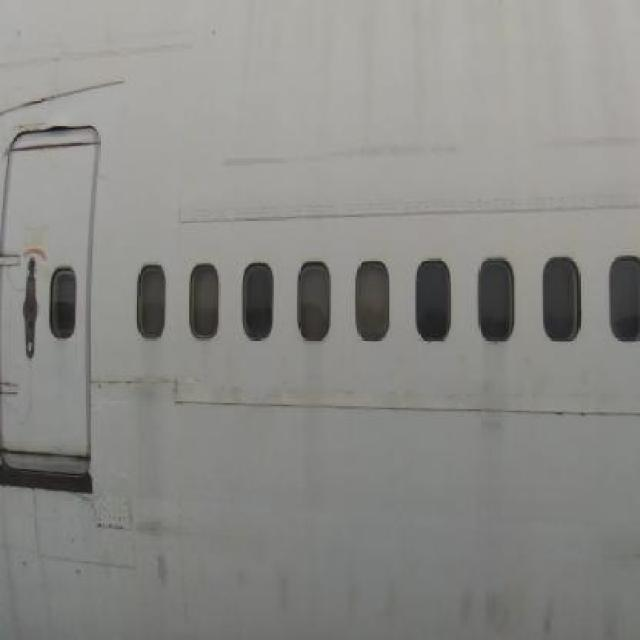Scartch: (220, 137, 465, 183), (450, 569, 568, 640), (135, 511, 202, 597), (231, 552, 300, 632), (339, 560, 407, 637), (592, 535, 638, 640), (538, 125, 640, 169)
